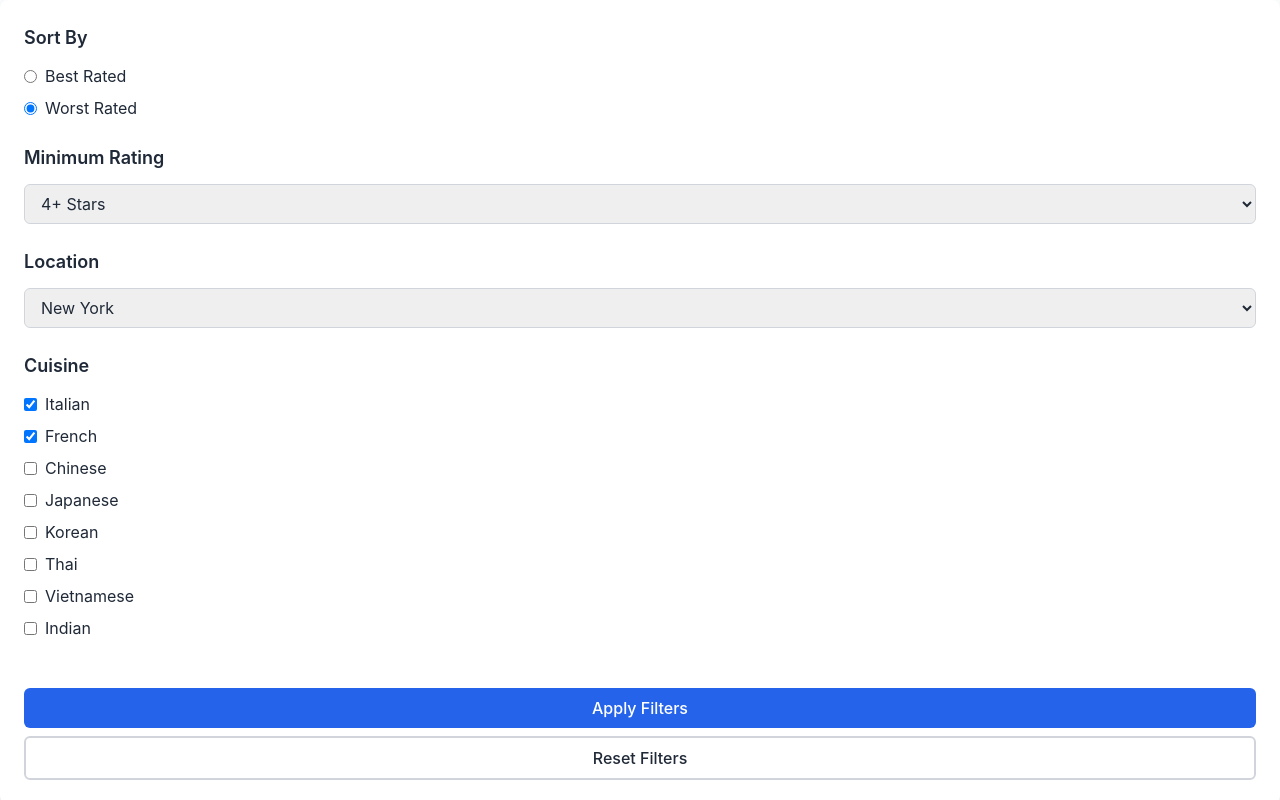
Scenario: FilterPanel Browser Tests › should reset all filters when Reset Filters is clicked
What coordinates should you click on to do the following:
click the button "Reset Filters"
I would click on:
 (640, 758)
Its box is 24,736 -> 1256,780.
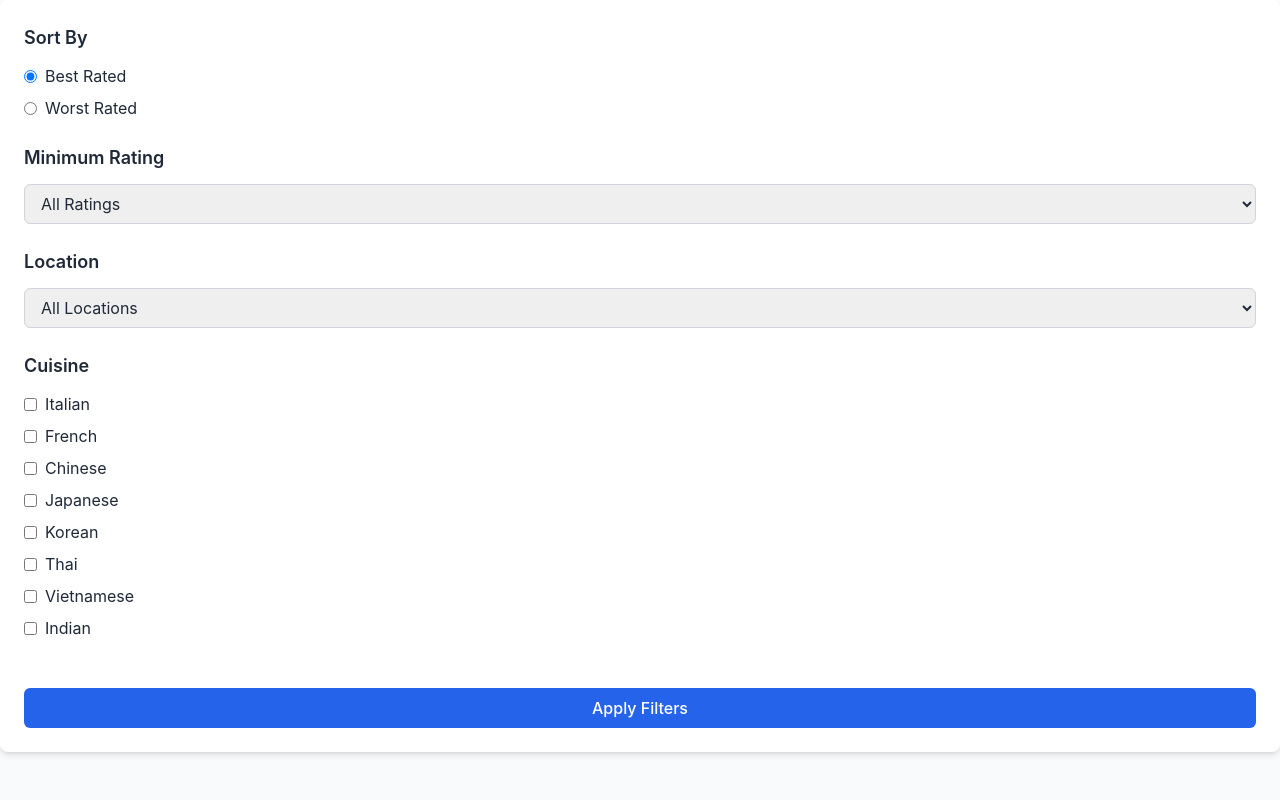
Check: the checkbox labelled "Italian" is not checked, box 24,398 -> 37,410
Check: the checkbox labelled "French" is not checked, box 24,430 -> 37,442
Check: the radio button labelled "Best Rated" is checked, box 24,70 -> 37,82
